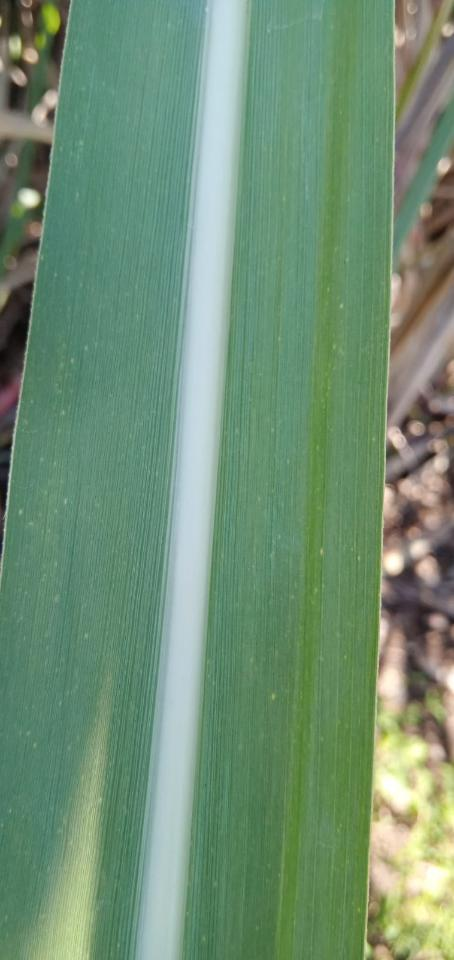Healthy: (0, 0, 395, 959)
